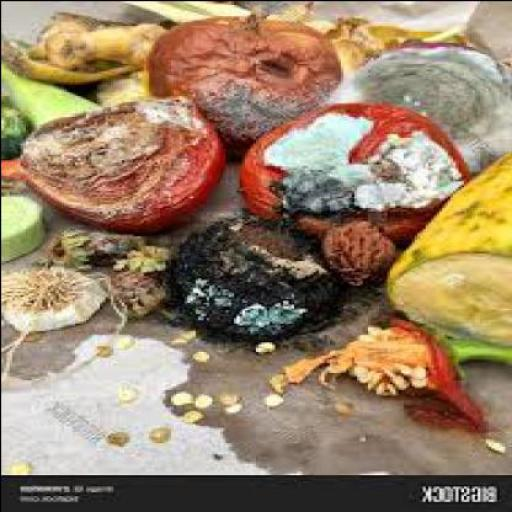biodegradable: (241, 99, 477, 246), (148, 6, 344, 156), (19, 88, 227, 228), (271, 310, 511, 430), (123, 1, 483, 74), (331, 33, 511, 174), (391, 145, 511, 342), (176, 208, 352, 342), (11, 10, 170, 100), (2, 54, 112, 180), (2, 262, 110, 334), (109, 241, 181, 317), (326, 216, 400, 285), (50, 220, 153, 262), (2, 190, 47, 262), (3, 76, 30, 155), (482, 430, 506, 451), (170, 387, 194, 406), (123, 382, 143, 404), (181, 408, 205, 423), (331, 394, 356, 408), (266, 388, 290, 402), (14, 457, 36, 472), (192, 389, 214, 404), (255, 338, 277, 352), (192, 349, 214, 360), (110, 431, 132, 442), (154, 425, 170, 438), (224, 391, 241, 402), (222, 402, 241, 409)
